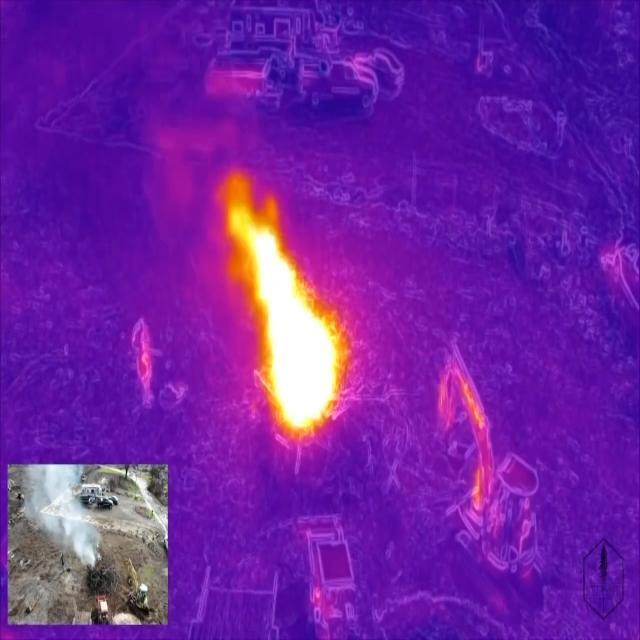fire: (226, 184, 342, 439)
